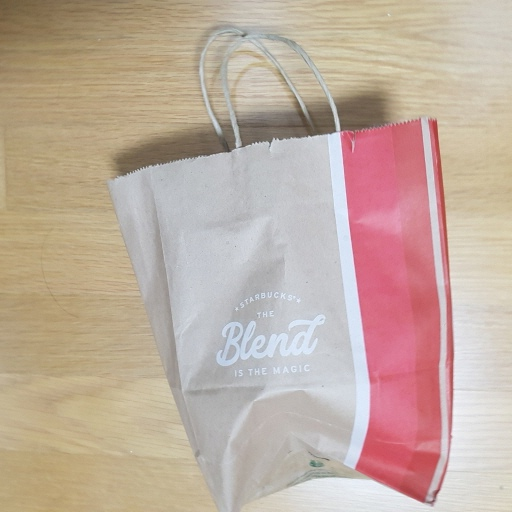Paper_0: (108, 117, 465, 505)
